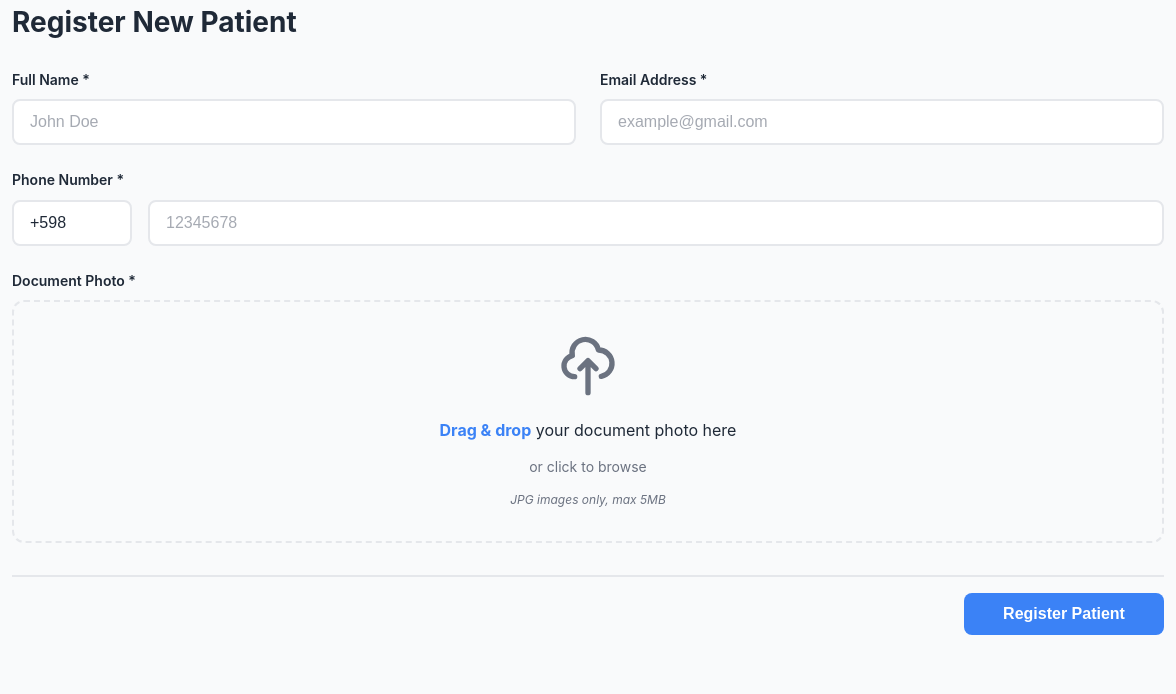
Test: PatientForm › validates phone number contains only digits
In the field with placeholder "12345678": (656, 223) [148, 200, 1164, 246], type "123abc456"
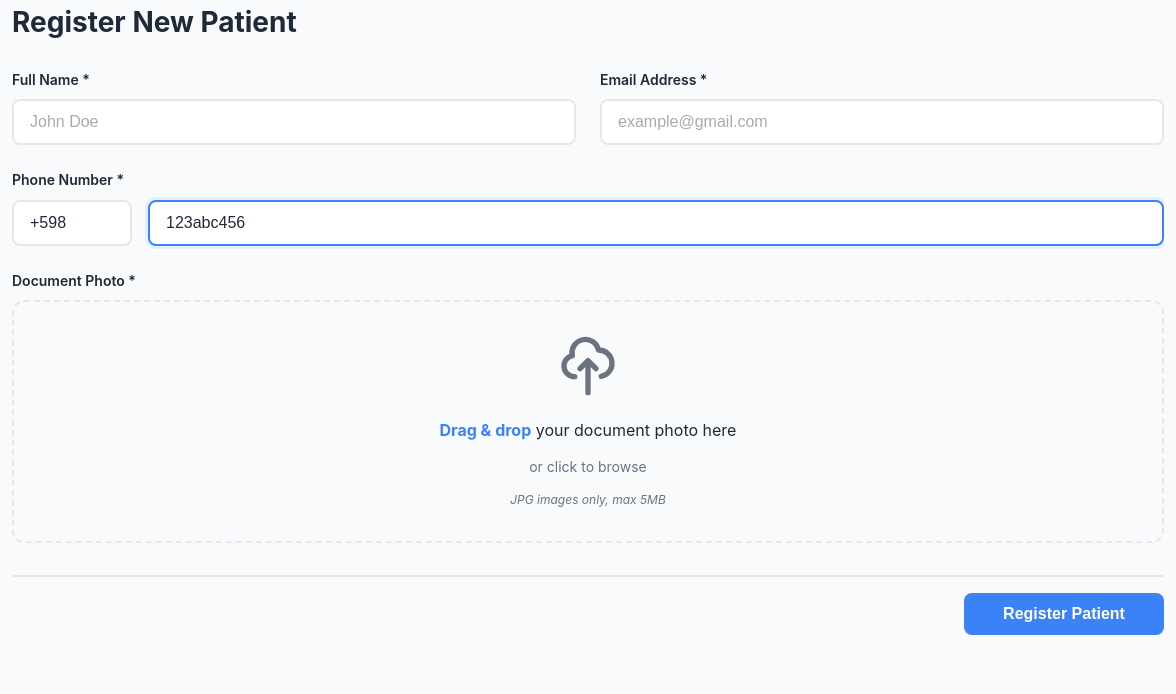
Click the button "Register Patient": (1064, 614) [964, 593, 1164, 635]
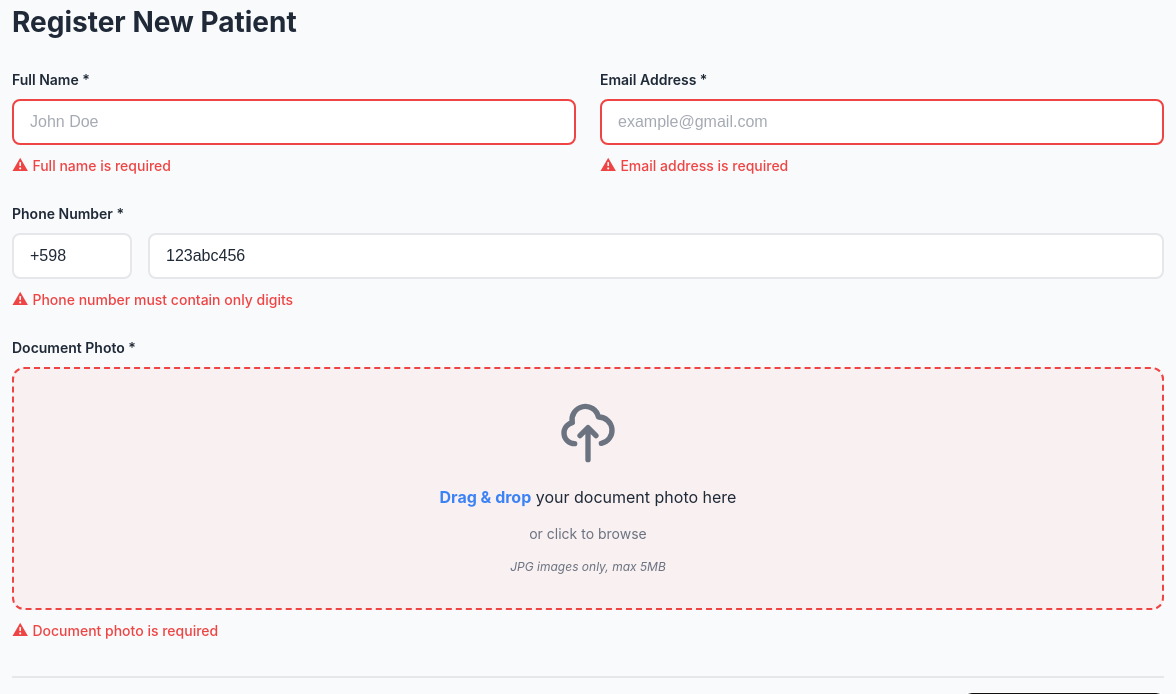
Expected: the text "Phone number must contain only digits" is shown, [32, 291, 293, 308]
